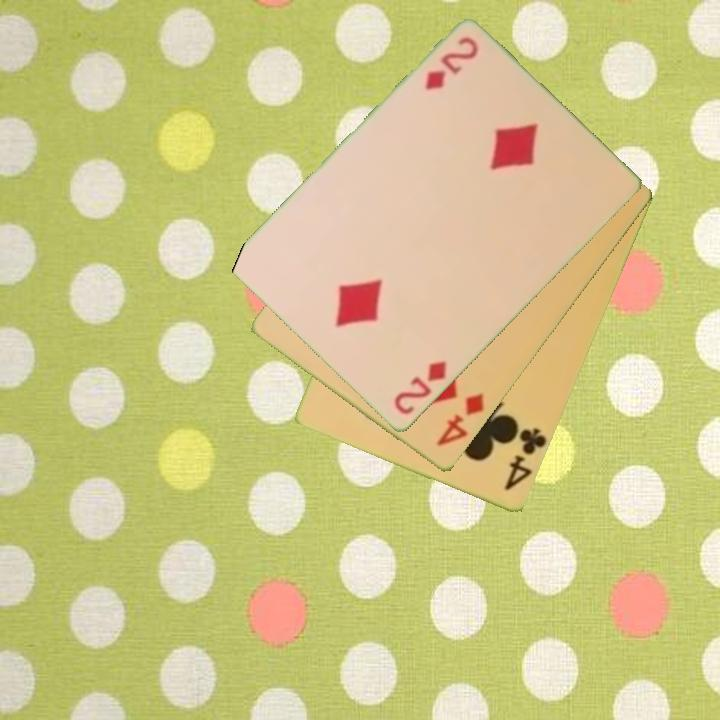2d: (390, 358, 450, 419), (422, 33, 481, 94)
4c: (501, 423, 549, 495)
4d: (433, 389, 488, 450)
